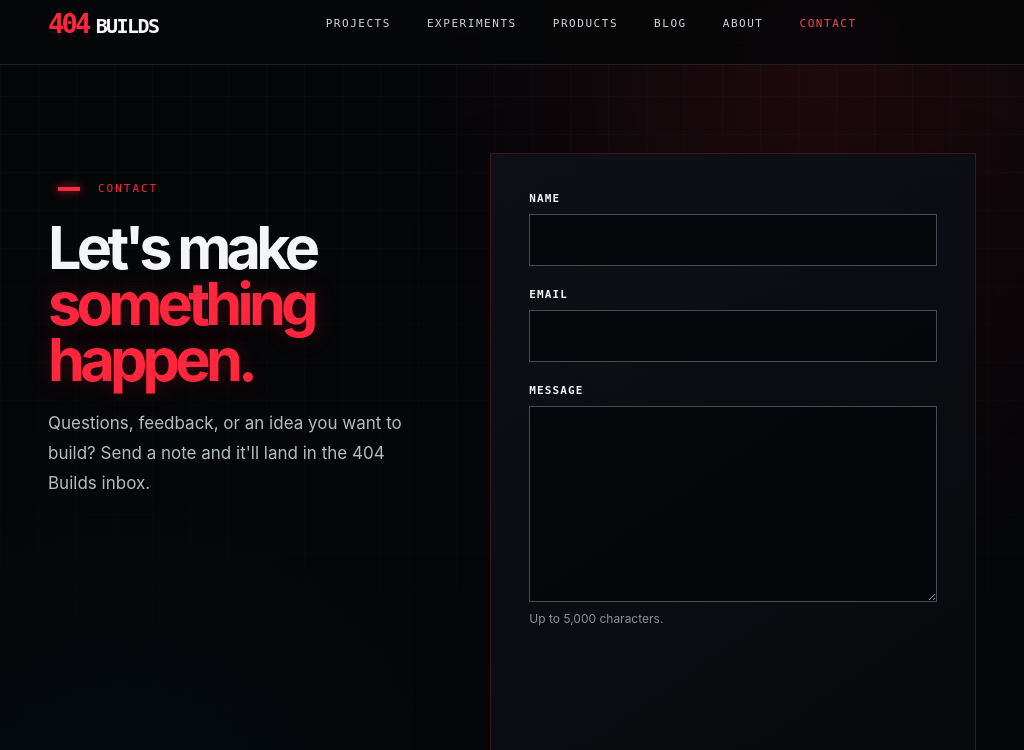
Test: Contact page form › shows a generic failure, preserves the draft, and resets verification after an HTTP error
Type "Wesley Ruede" into the field labelled "Name". click: (733, 240)
box: [529,214,937,266]
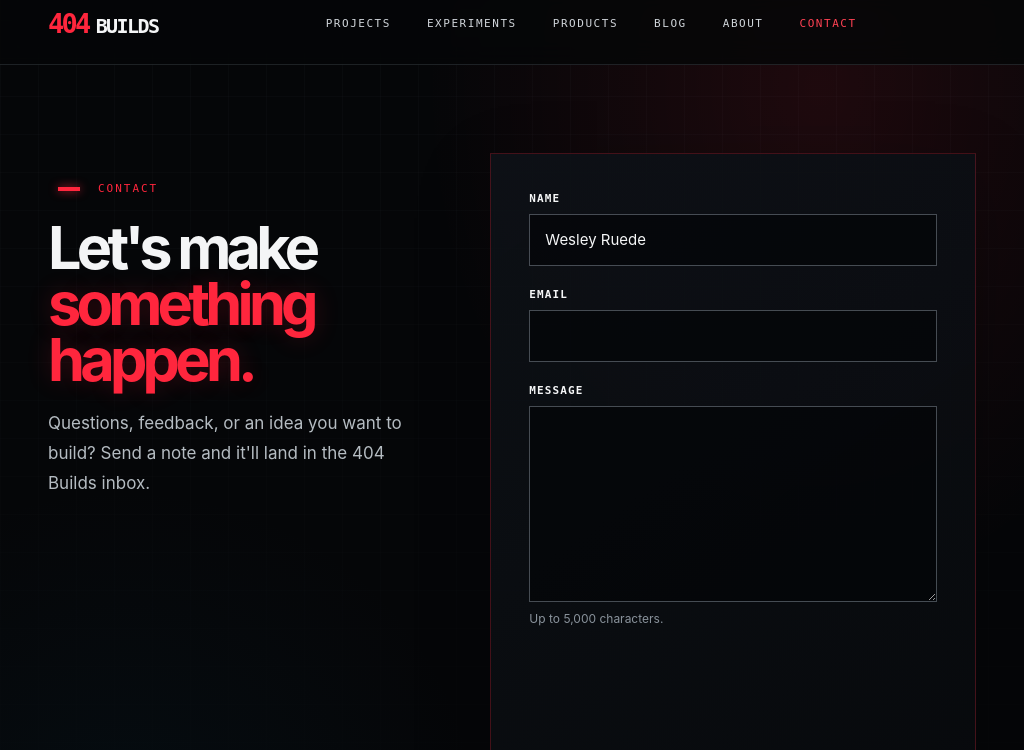
Type "wesley@example.com" into the field labelled "Email". click: (733, 336)
box: [529,310,937,362]
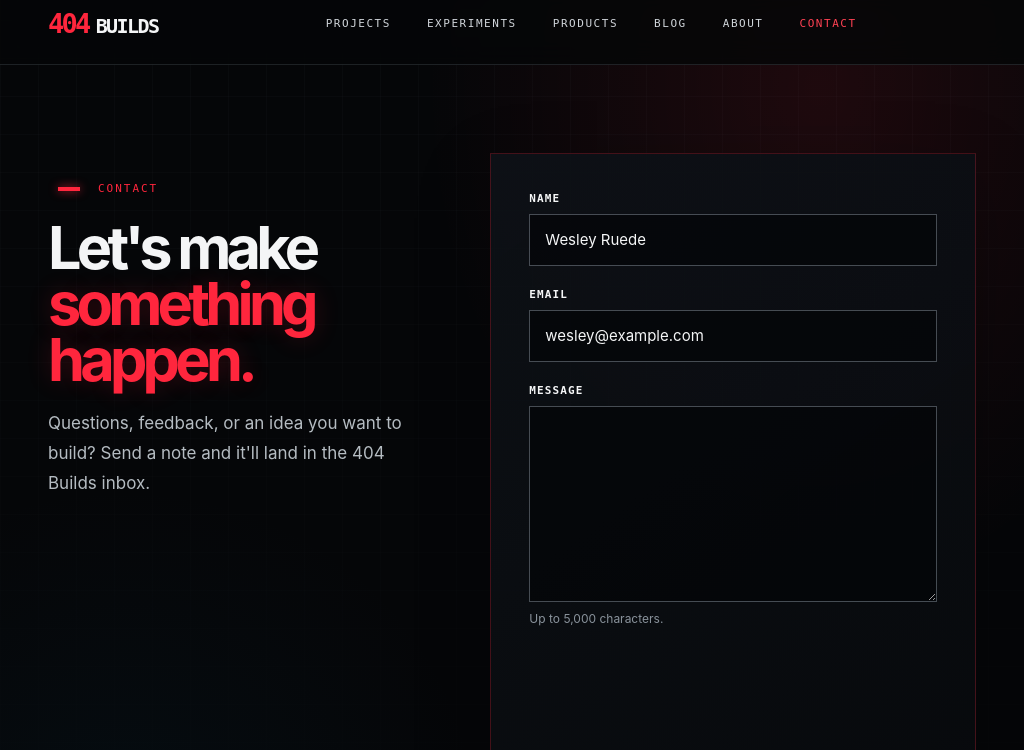
Type "I have a question about a build." into the text box labelled "Message". click: (733, 504)
box: [529,406,937,602]
(page scrolled)
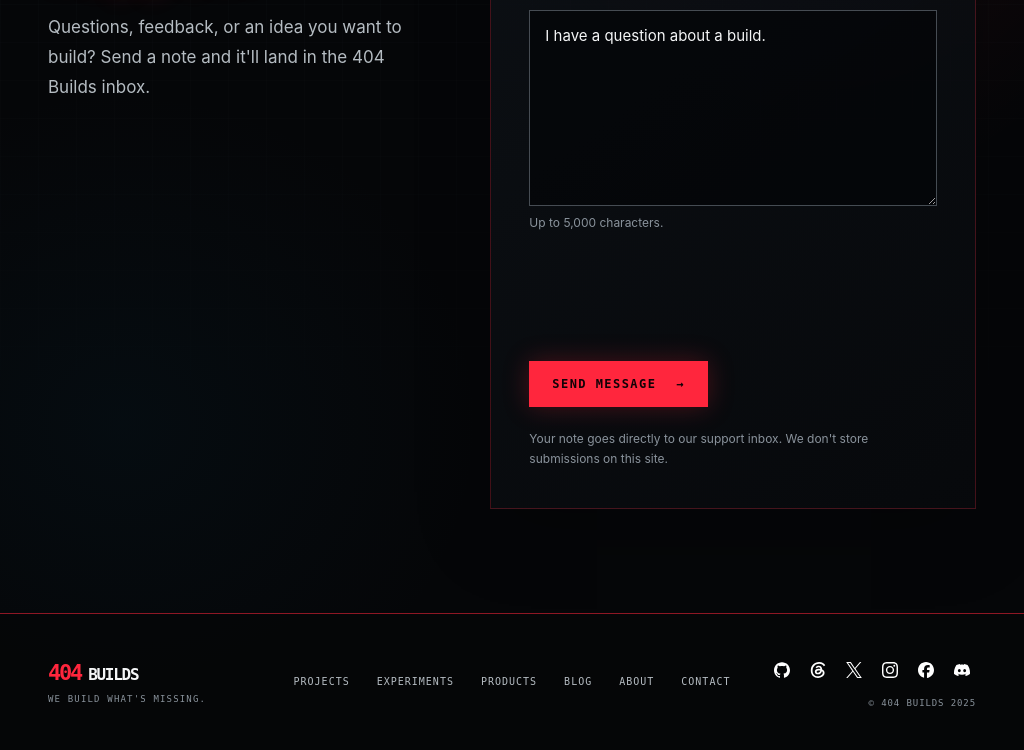
Click the button "Send message →". click: (619, 384)
box: [529,361,708,407]
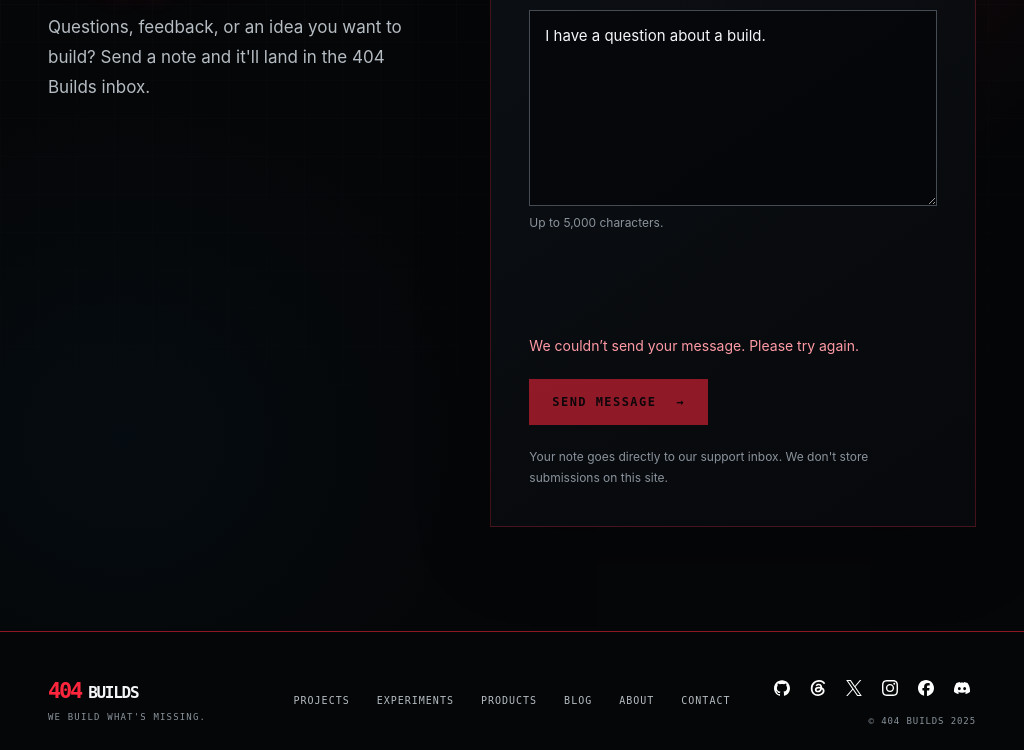
Now the button "Send message →" is disabled, box [529,379,708,425]
